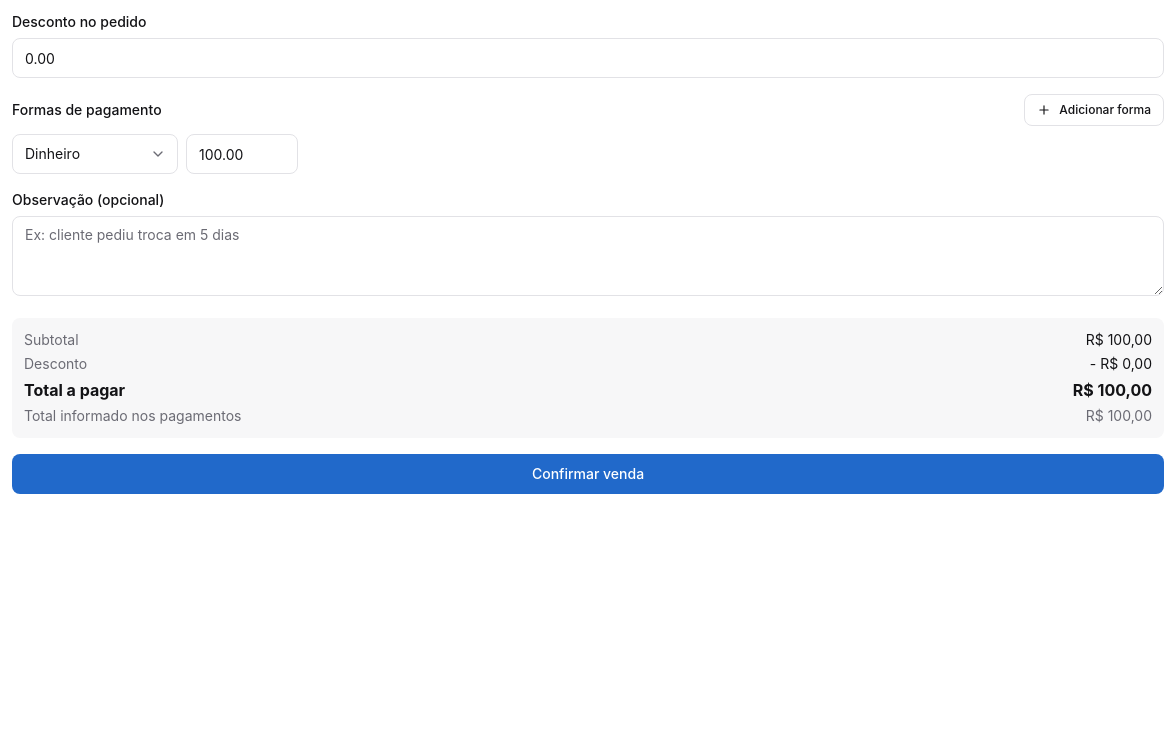
PdvPagamentoForm › exibe erro inline quando a soma dos pagamentos diverge do total e não confirma a venda
This screenshot has width=1176, height=732.
Replace the text in the field named "valor da forma de pagamento 1" with "50.00" at coordinates (242, 154), box [186, 134, 298, 174]
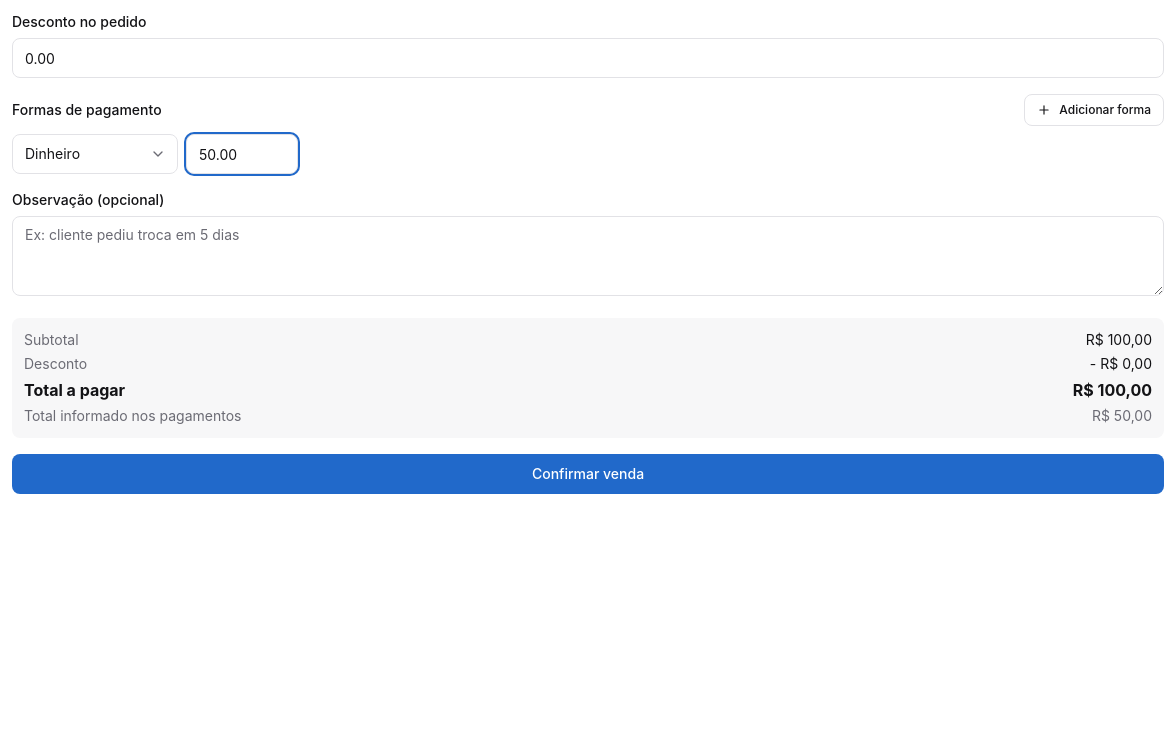
Click the button "Confirmar venda".
click(588, 474)  # box [12, 454, 1164, 494]
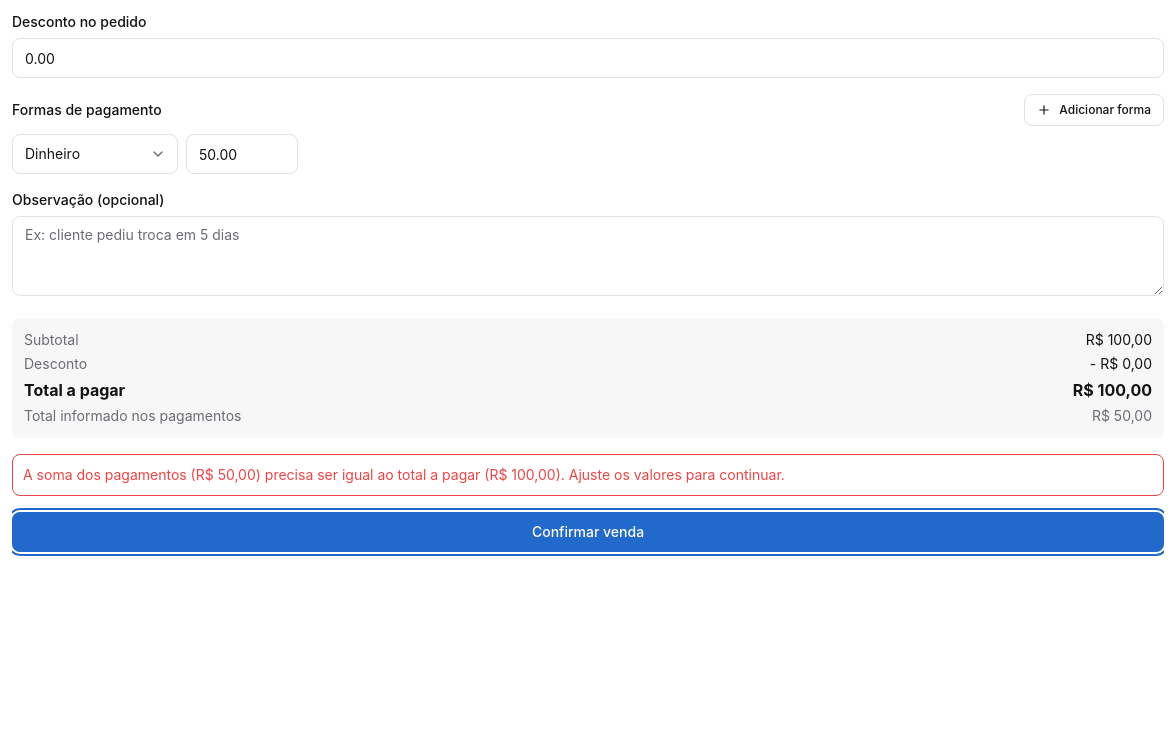
Check: the text "precisa ser igual ao total a pagar" is shown, box [256, 466, 489, 483]
